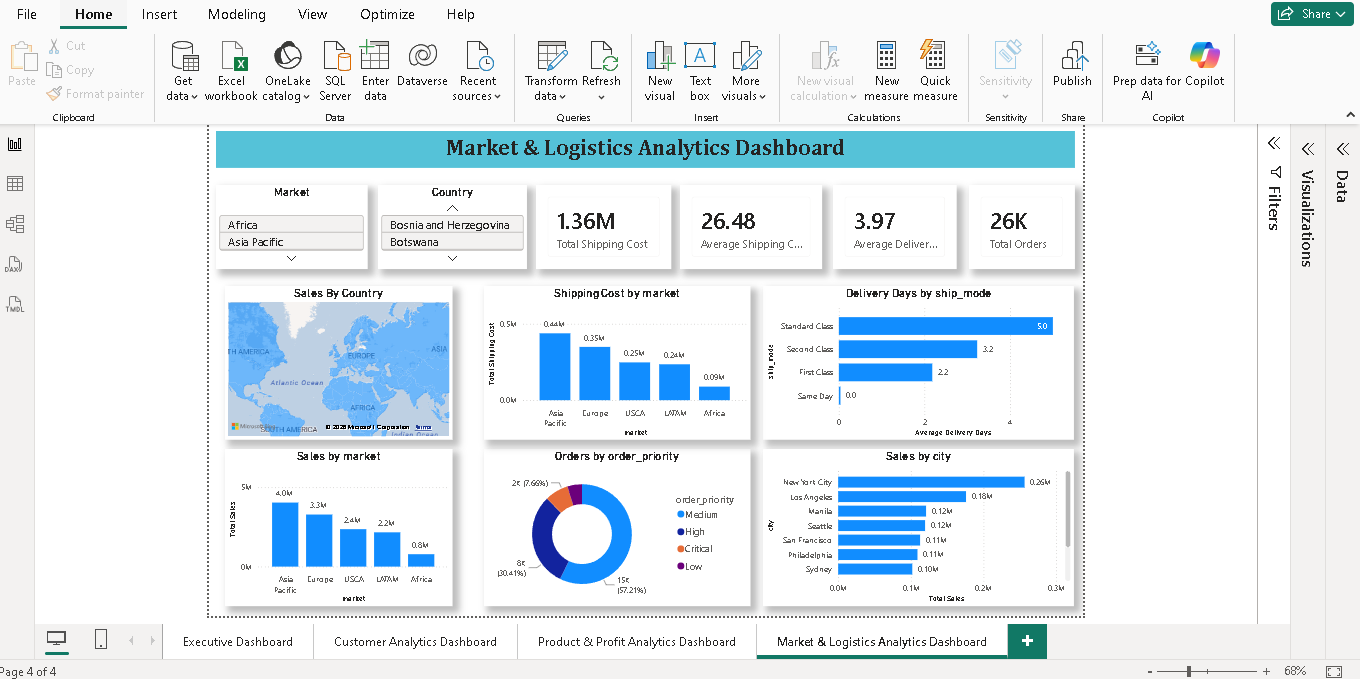

This screenshot's page, from the dashboard's own definition file:
{"tool":"powerbi","page":{"name":" Market & Logistics Analytics Dashboard     ","canvas":[1280,720],"ordinal":3},"visuals":[{"type":"textbox","box":[10.2,10.2,1257.1,54.1],"z":0},{"type":"filledMap","title":"Sales By Country","fields":{"Category":["Orders.country"]},"box":[23.5,236.9,332.6,225.1],"z":1000},{"type":"columnChart","title":"Sales by market","fields":{"Category":["Orders.market"],"Y":["Measures (2).Total Sales"]},"box":[23.5,475.4,332.6,230.1],"z":2000},{"type":"barChart","title":"Delivery Days by ship_mode","fields":{"Y":["Measures (2).Average Delivery Days"],"Category":["Orders.ship_mode"]},"box":[811.3,236.9,455.2,225.1],"z":3000},{"type":"donutChart","title":"Orders by order_priority","fields":{"Y":["Measures (2).Total Orders"],"Category":["Orders.order_priority"]},"box":[403.1,475.4,389.7,230.1],"z":4000},{"type":"barChart","title":"Sales by city","fields":{"Category":["Orders.city"],"Y":["Measures (2).Total Sales"]},"box":[811.3,475.4,455.2,230.1],"z":5000},{"type":"cardVisual","title":"Market","fields":{"Rows":["Orders.market"]},"box":[10.1,89,221.7,122.6],"z":5001},{"type":"cardVisual","title":"Country","fields":{"Rows":["Orders.country"]},"box":[246.9,89,218.4,122.6],"z":5002},{"type":"cardVisual","fields":{"Data":["Measures (2).Total Shipping Cost"]},"box":[478.7,89,198.2,122.6],"z":5003},{"type":"cardVisual","fields":{"Data":["Measures (2).Average Shipping Cost"]},"box":[688.7,89,208.3,122.6],"z":5004},{"type":"cardVisual","fields":{"Data":["Measures (2).Average Delivery Days"]},"box":[913.8,89,181.4,122.6],"z":5005},{"type":"cardVisual","fields":{"Data":["Measures (2).Total Orders"]},"box":[1112,89,154.5,122.6],"z":5006},{"type":"columnChart","title":"Shipping Cost by market","fields":{"Y":["Measures (2).Total Shipping Cost"],"Category":["Orders.market"]},"box":[403.1,236.9,389.7,225.1],"z":5007}]}

Visuals, with their boxes on the page's 1280x720 design canvas (x1, y1, x2, y2). These are canvas units, not pixel positions in the 1360x679 screenshot, which may show the page scaled, cropped or inside an application window:
textbox: 10:10:1267:64
"Sales By Country" filledMap: 24:237:356:462
"Sales by market" columnChart: 24:475:356:706
"Delivery Days by ship_mode" barChart: 811:237:1266:462
"Orders by order_priority" donutChart: 403:475:793:706
"Sales by city" barChart: 811:475:1266:706
"Market" cardVisual: 10:89:232:212
"Country" cardVisual: 247:89:465:212
cardVisual - Measures (2).Total Shipping Cost: 479:89:677:212
cardVisual - Measures (2).Average Shipping Cost: 689:89:897:212
cardVisual - Measures (2).Average Delivery Days: 914:89:1095:212
cardVisual - Measures (2).Total Orders: 1112:89:1266:212
"Shipping Cost by market" columnChart: 403:237:793:462
